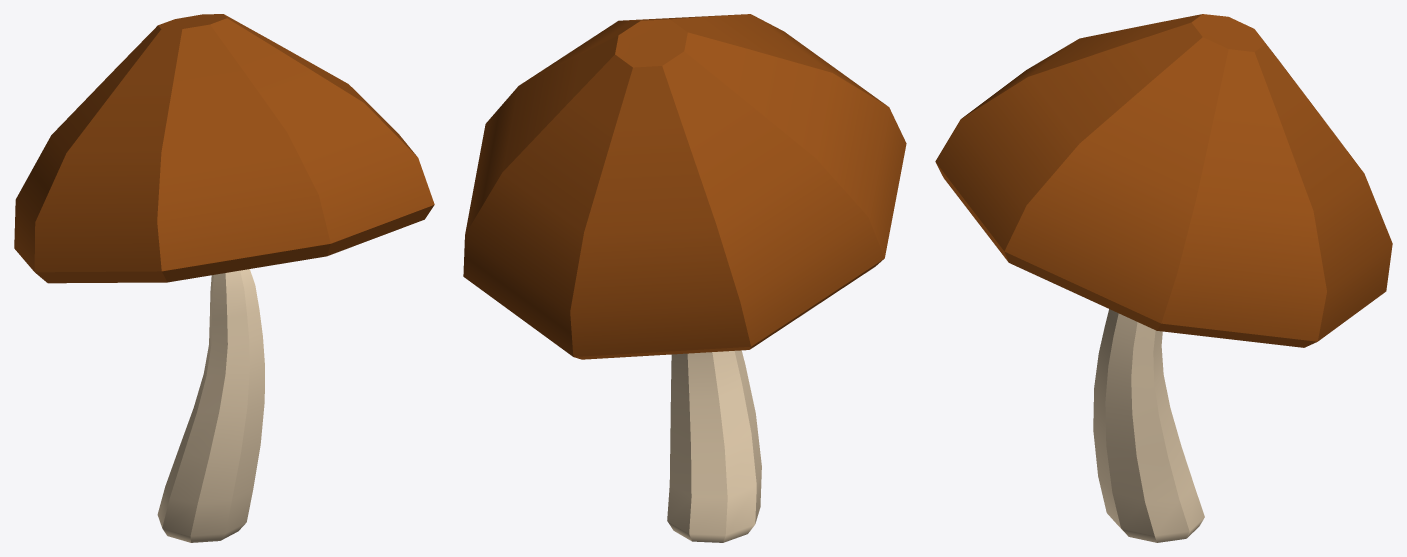
The model's file is Shroom2.fbx.
3 renders of one model, left to right at view 1: azimuth 30°, elevation 25°; view 2: azimuth 150°, elevation 25°; view 3: azimuth 270°, elevation 25°, orthographic. The views are drawn at different scales.
Parts seen in each view (by area): view 1: Shroom2; view 2: Shroom2; view 3: Shroom2.
Part boxes in pixels (x1,y1,x2,y2): Shroom2: (14,14,434,542); Shroom2: (463,14,906,542); Shroom2: (935,14,1392,542).
Bounding box in the file's own units: 2.15 × 2.63 × 2.11.
